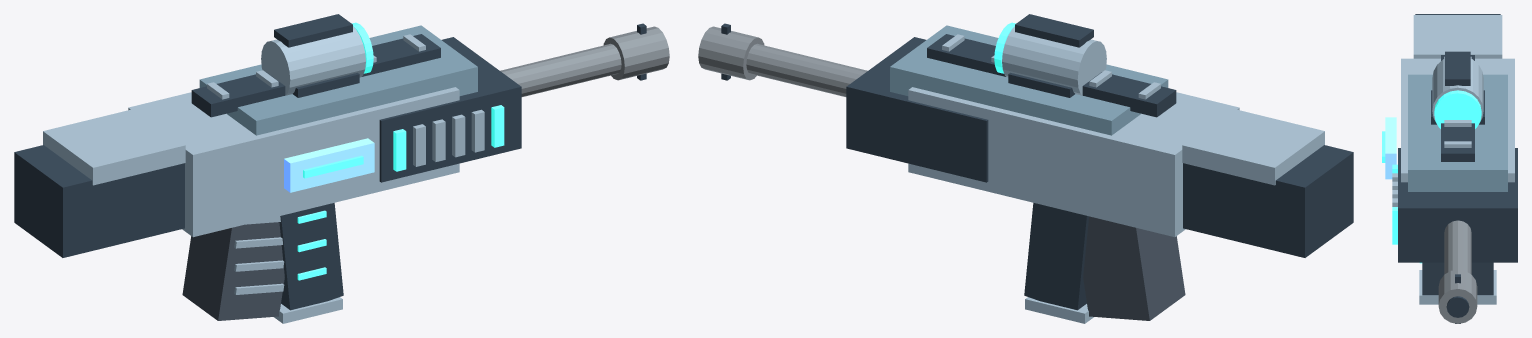
File: rifle.glb
The picture shows the model from 3 angles, left to right: view 1: azimuth 30°, elevation 25°; view 2: azimuth 150°, elevation 25°; view 3: azimuth 270°, elevation 25°; orthographic projection. The views are drawn at different scales.
Visible parts, largest first — view 1: Rifle_Receiver, Rifle_Stock, Rifle_Upper, Rifle_Handguard, Rifle_Grip, Stock_Cheek_Rest, MAGAZINE, Rifle_Optic_tube, Rifle_Rail, Rifle_Barrel, Side_Energy_Cell, Rifle_Muzzle (+10 smaller); view 2: Rifle_Receiver, Rifle_Stock, Rifle_Handguard, Rifle_Upper, Rifle_Grip, Stock_Cheek_Rest, MAGAZINE, Rifle_Optic_tube, Rifle_Rail, Rifle_Barrel, Rifle_Muzzle, Rifle_Optic_rail (+2 smaller); view 3: Rifle_Handguard, Rifle_Upper, Stock_Cheek_Rest, Rifle_Receiver, Rifle_Muzzle, Rifle_Barrel, MAGAZINE, Rifle_Optic_ring, Rifle_Optic_tube, Rifle_Rail, Rifle_Optic_rail, Side_Energy_Cell (+7 smaller).
Part boxes in pixels (x1,y1,x2,y2): Rifle_Receiver: (128, 87, 459, 237); Rifle_Stock: (14, 145, 184, 257); Rifle_Upper: (199, 25, 477, 135); Rifle_Handguard: (379, 37, 521, 182); Rifle_Grip: (182, 222, 284, 320); Stock_Cheek_Rest: (43, 108, 185, 185); MAGAZINE: (279, 203, 343, 310); Rifle_Optic_tube: (261, 26, 365, 95); Rifle_Rail: (191, 34, 440, 117); Rifle_Barrel: (500, 43, 621, 96); Side_Energy_Cell: (284, 138, 374, 192); Rifle_Muzzle: (603, 26, 669, 80); Rifle_Receiver: (908, 87, 1239, 237); Rifle_Stock: (1183, 145, 1353, 257); Rifle_Handguard: (846, 37, 988, 182); Rifle_Upper: (890, 25, 1168, 135); Rifle_Grip: (1083, 216, 1185, 320); Stock_Cheek_Rest: (1182, 108, 1324, 185); MAGAZINE: (1024, 203, 1088, 310); Rifle_Optic_tube: (1002, 26, 1106, 95); Rifle_Rail: (927, 34, 1176, 117); Rifle_Barrel: (746, 43, 867, 96); Rifle_Muzzle: (698, 26, 764, 80); Rifle_Optic_rail: (1015, 14, 1093, 47); Rifle_Handguard: (1398, 148, 1517, 262); Rifle_Upper: (1408, 74, 1507, 191); Stock_Cheek_Rest: (1413, 15, 1502, 58); Rifle_Receiver: (1401, 58, 1514, 182); Rifle_Muzzle: (1438, 269, 1477, 323); Rifle_Barrel: (1444, 220, 1471, 274); MAGAZINE: (1422, 262, 1493, 295); Rifle_Optic_ring: (1434, 90, 1481, 128); Rifle_Optic_tube: (1432, 59, 1483, 120); Rifle_Rail: (1441, 55, 1474, 161); Rifle_Optic_rail: (1445, 51, 1470, 85); Side_Energy_Cell: (1385, 117, 1396, 179).
Bounding box in the file's own units: 2.22 × 0.9126 × 0.476.
